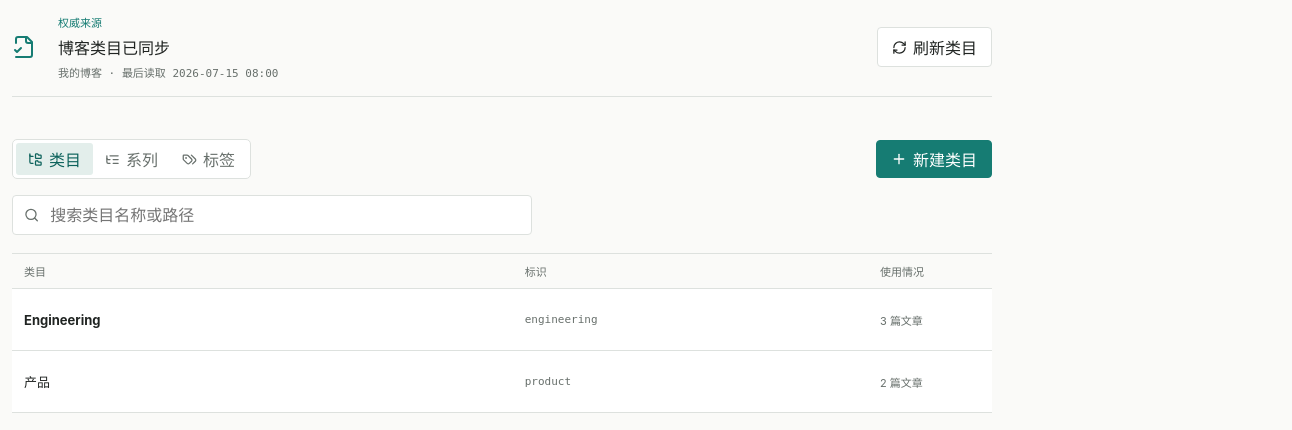
Test: 类目页面展示真实快照并支持搜索和手工刷新
Expected: the text "Engineering" is shown, [24, 312, 100, 328]
Expected: the text "3 篇文章" is shown, [880, 314, 923, 328]
Type "产品" into the search field labelled "搜索类目" at (284, 215), box [48, 204, 520, 226]
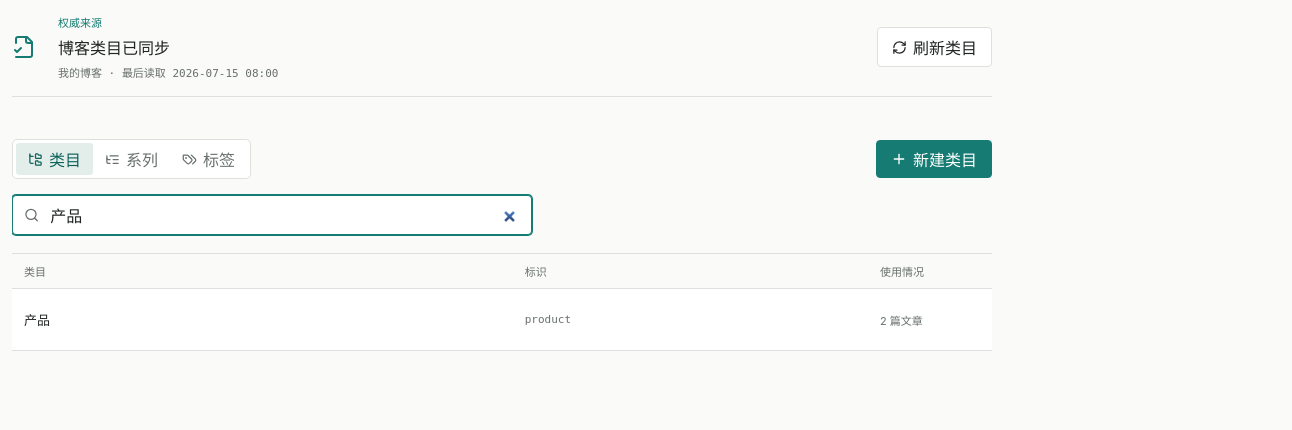
Expected: the text "产品" is shown, [24, 312, 50, 328]
Expected: the text "Engineering" is gone
Click the button "刷新类目" at (934, 47), box [877, 27, 992, 67]
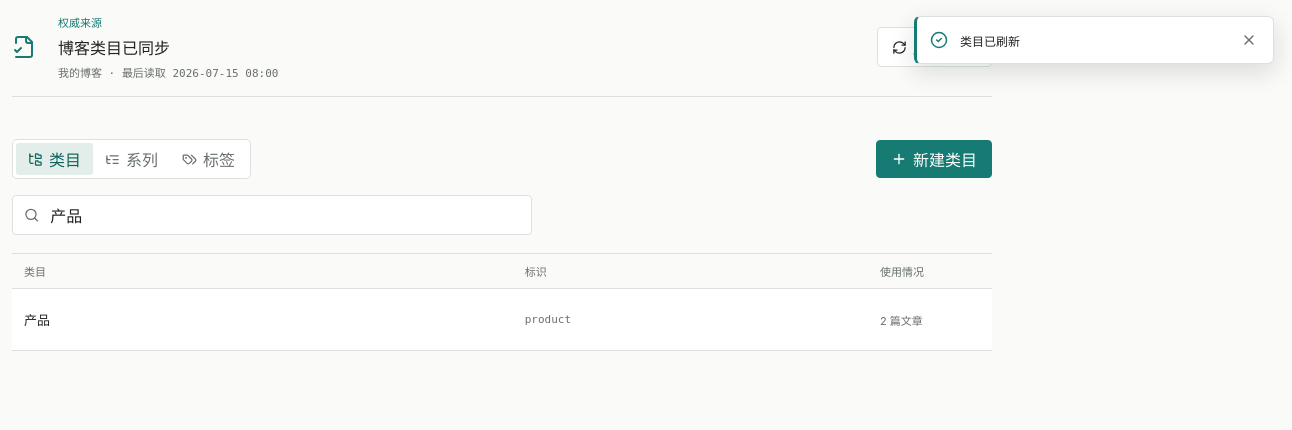
Expected: the message reads "类目已刷新", [960, 34, 1020, 48]
